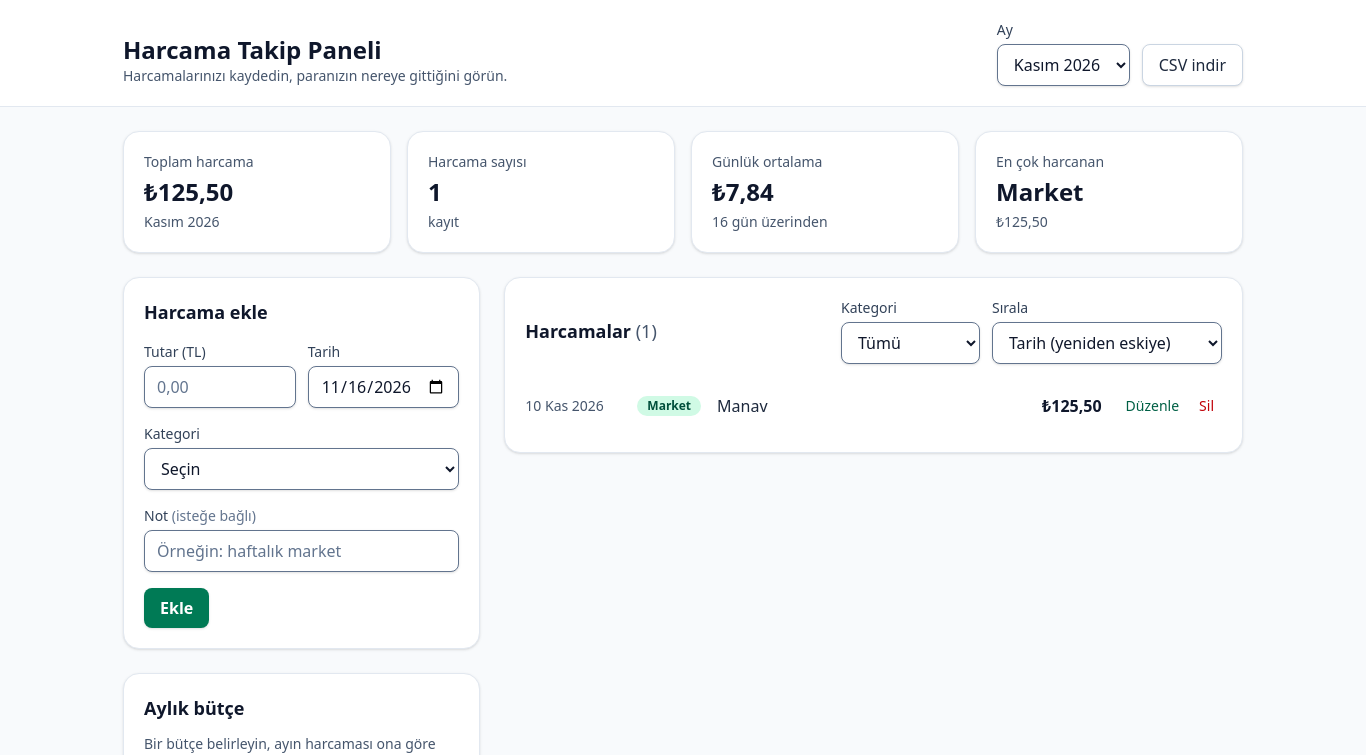
Test: announcements › keeps the same status line through an edit, so screen readers follow every message
Click the button named "Market harcaması: düzenle" at (1152, 406), box [1118,392,1187,420]
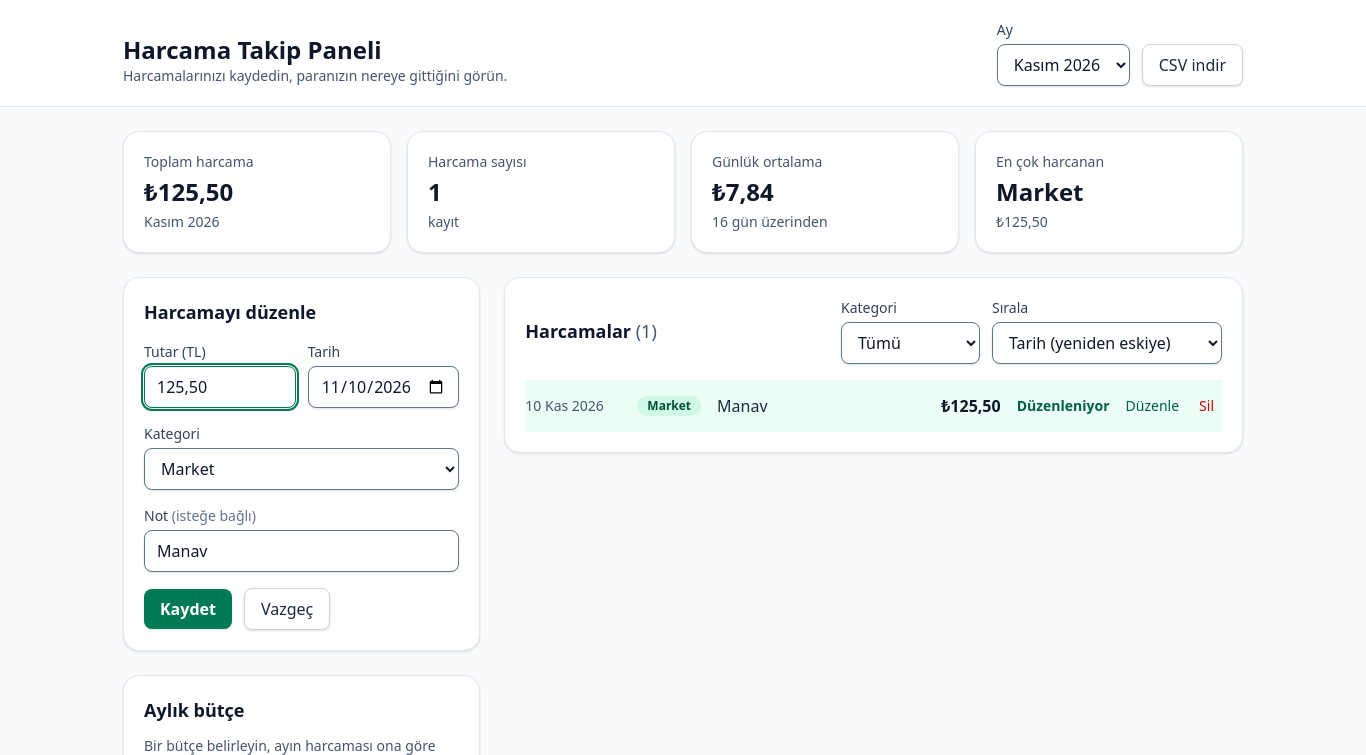
Click the button "Kaydet" at (188, 609), box [144,589,232,629]
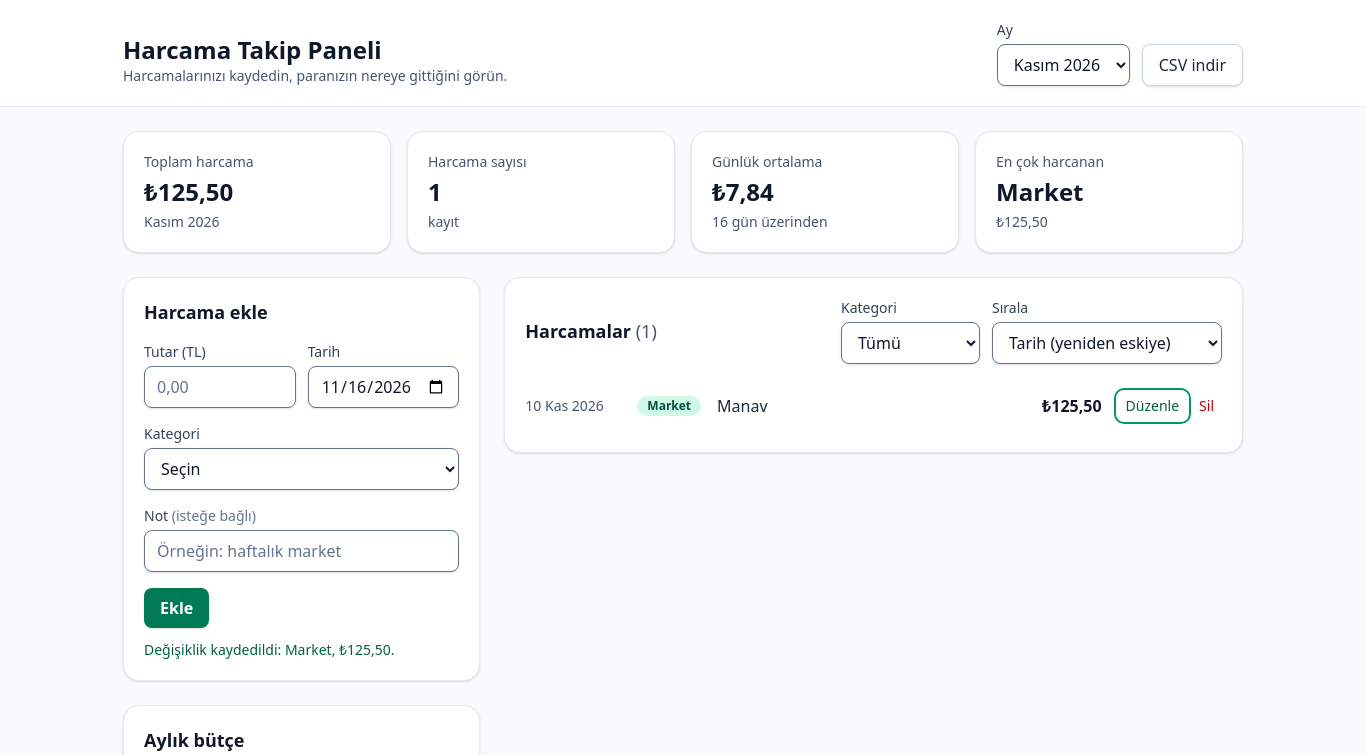
Check: the message reads "Değişiklik kaydedildi: Market, ₺125,50.", box [144,640,395,659]
